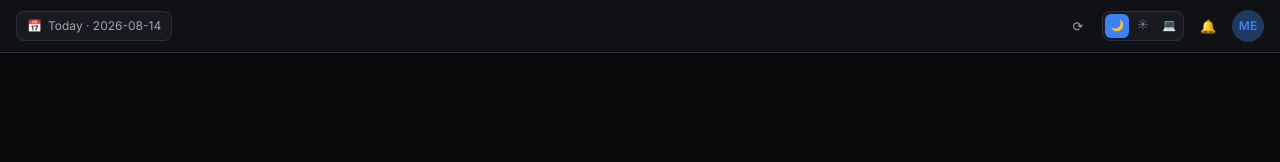
Scenario: TopNavigation › profile menu shows the signed-in email, an Account link, and a sign-out action
Click the button with aria-label "Profile" at (1248, 26), box [1232,10,1264,42]
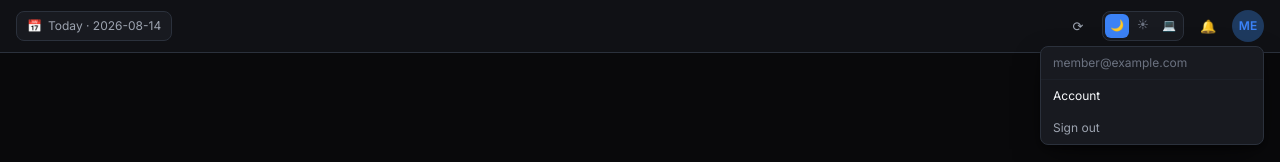
Now the text "member@example.com" is shown, box [1041,47,1263,80]
Now the menu item "Sign out" is shown, box [1041,112,1263,144]
